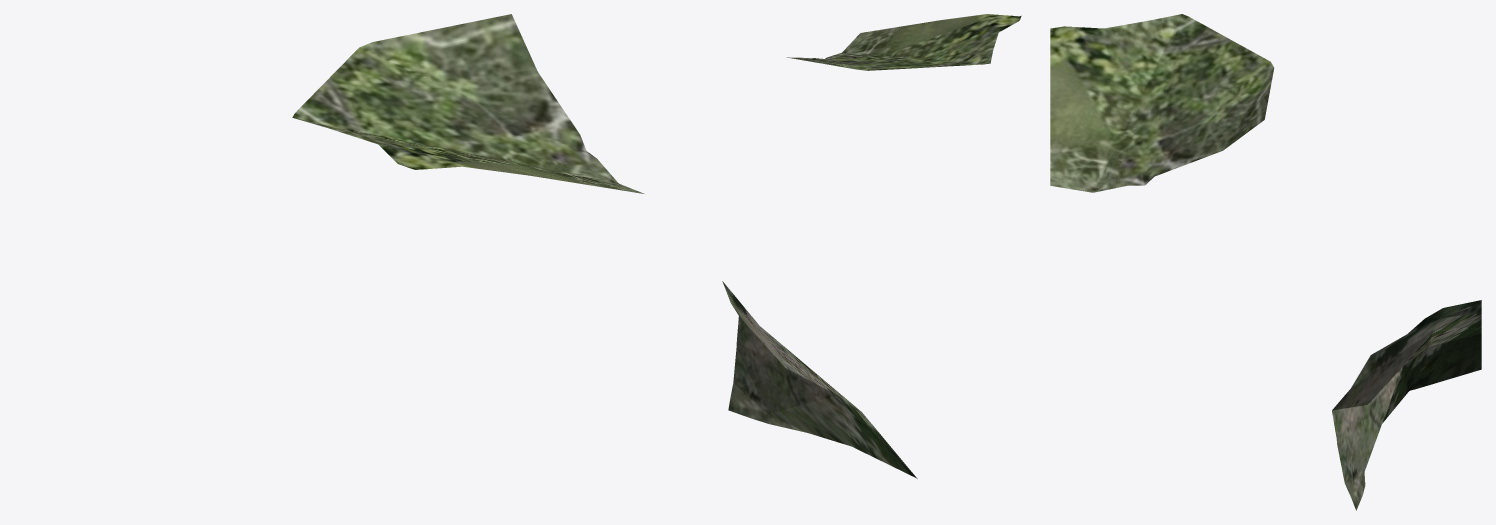
The picture shows the model from 3 angles, left to right: view 1: azimuth 30°, elevation 25°; view 2: azimuth 150°, elevation 25°; view 3: azimuth 270°, elevation 25°; orthographic projection. The views are drawn at different scales.
Size of the model in its own units: 2.29 by 2.95 by 2.95.
2 materials, 2 textured.
